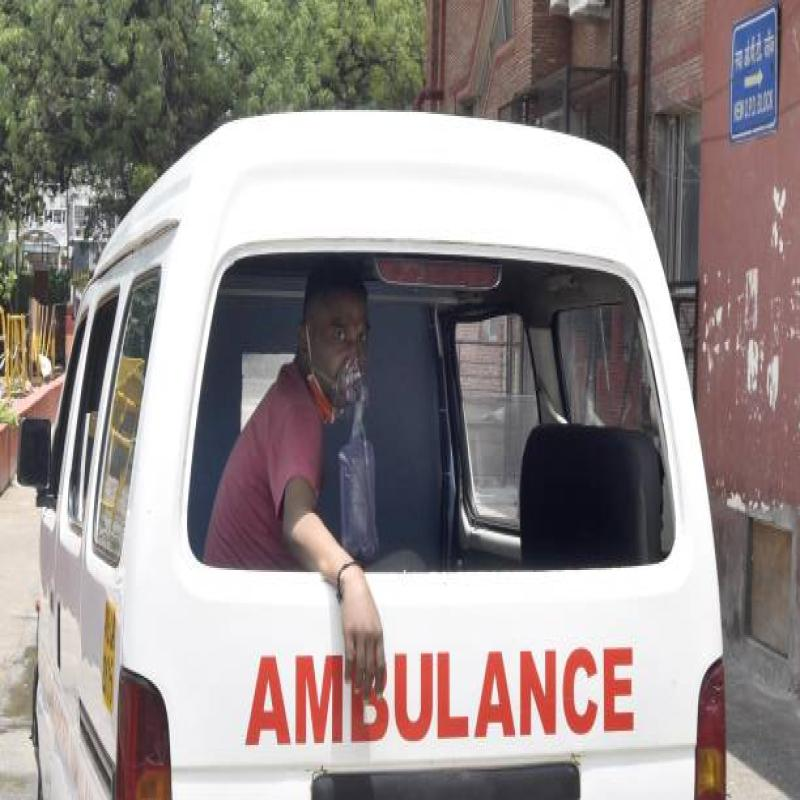ambulance: (68, 140, 706, 800)
